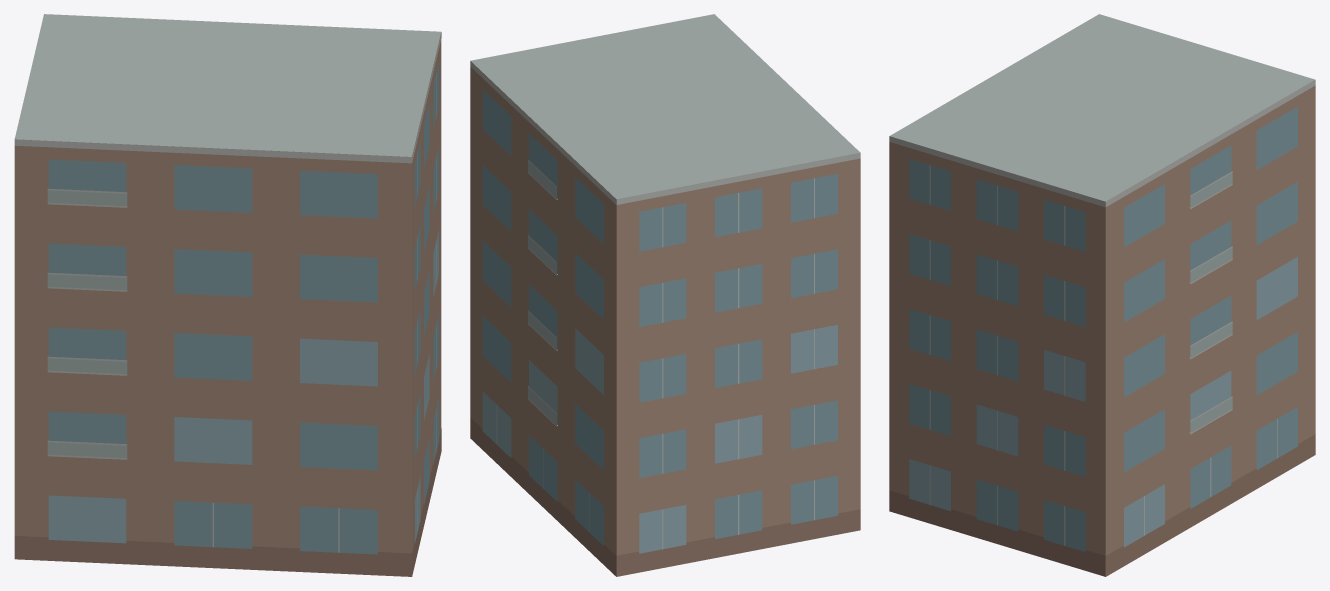
Rendered from survey-upis-32832201.glb.
The picture shows the model from 3 angles, left to right: view 1: azimuth 30°, elevation 25°; view 2: azimuth 150°, elevation 25°; view 3: azimuth 270°, elevation 25°; orthographic projection. The views are drawn at different scales.
Parts seen in each view (by area): view 1: survey-upis-32832201.tmp; view 2: survey-upis-32832201.tmp; view 3: survey-upis-32832201.tmp.
Part boxes in pixels (box(x1,y1,x2,y2)): survey-upis-32832201.tmp: box(14, 14, 441, 576); survey-upis-32832201.tmp: box(470, 14, 860, 576); survey-upis-32832201.tmp: box(889, 14, 1315, 576).
Size of the model in its own units: 17.28 by 16.1 by 16.58.
